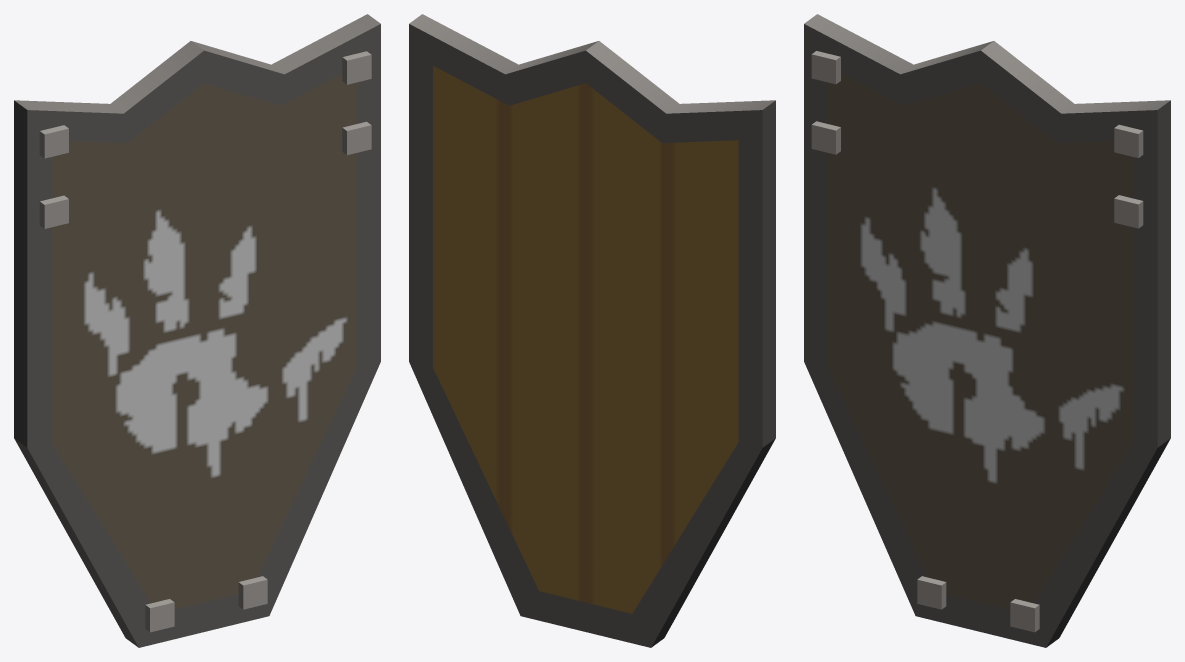
The model's file is SF_Wep_Human_Shield_010.fbx.
3 views of the same model, side by side, from view 1: azimuth 30°, elevation 25°; view 2: azimuth 150°, elevation 25°; view 3: azimuth 330°, elevation 25° (orthographic).
Visible parts, largest first — view 1: SF_Wep_Human_Shield_010; view 2: SF_Wep_Human_Shield_010; view 3: SF_Wep_Human_Shield_010.
Part boxes in pixels (x1,y1,x2,y2): SF_Wep_Human_Shield_010: (14,14,380,647); SF_Wep_Human_Shield_010: (409,14,775,647); SF_Wep_Human_Shield_010: (804,14,1170,647).
Bounding box in the file's own units: 0.9564 × 1.5 × 0.0851.
